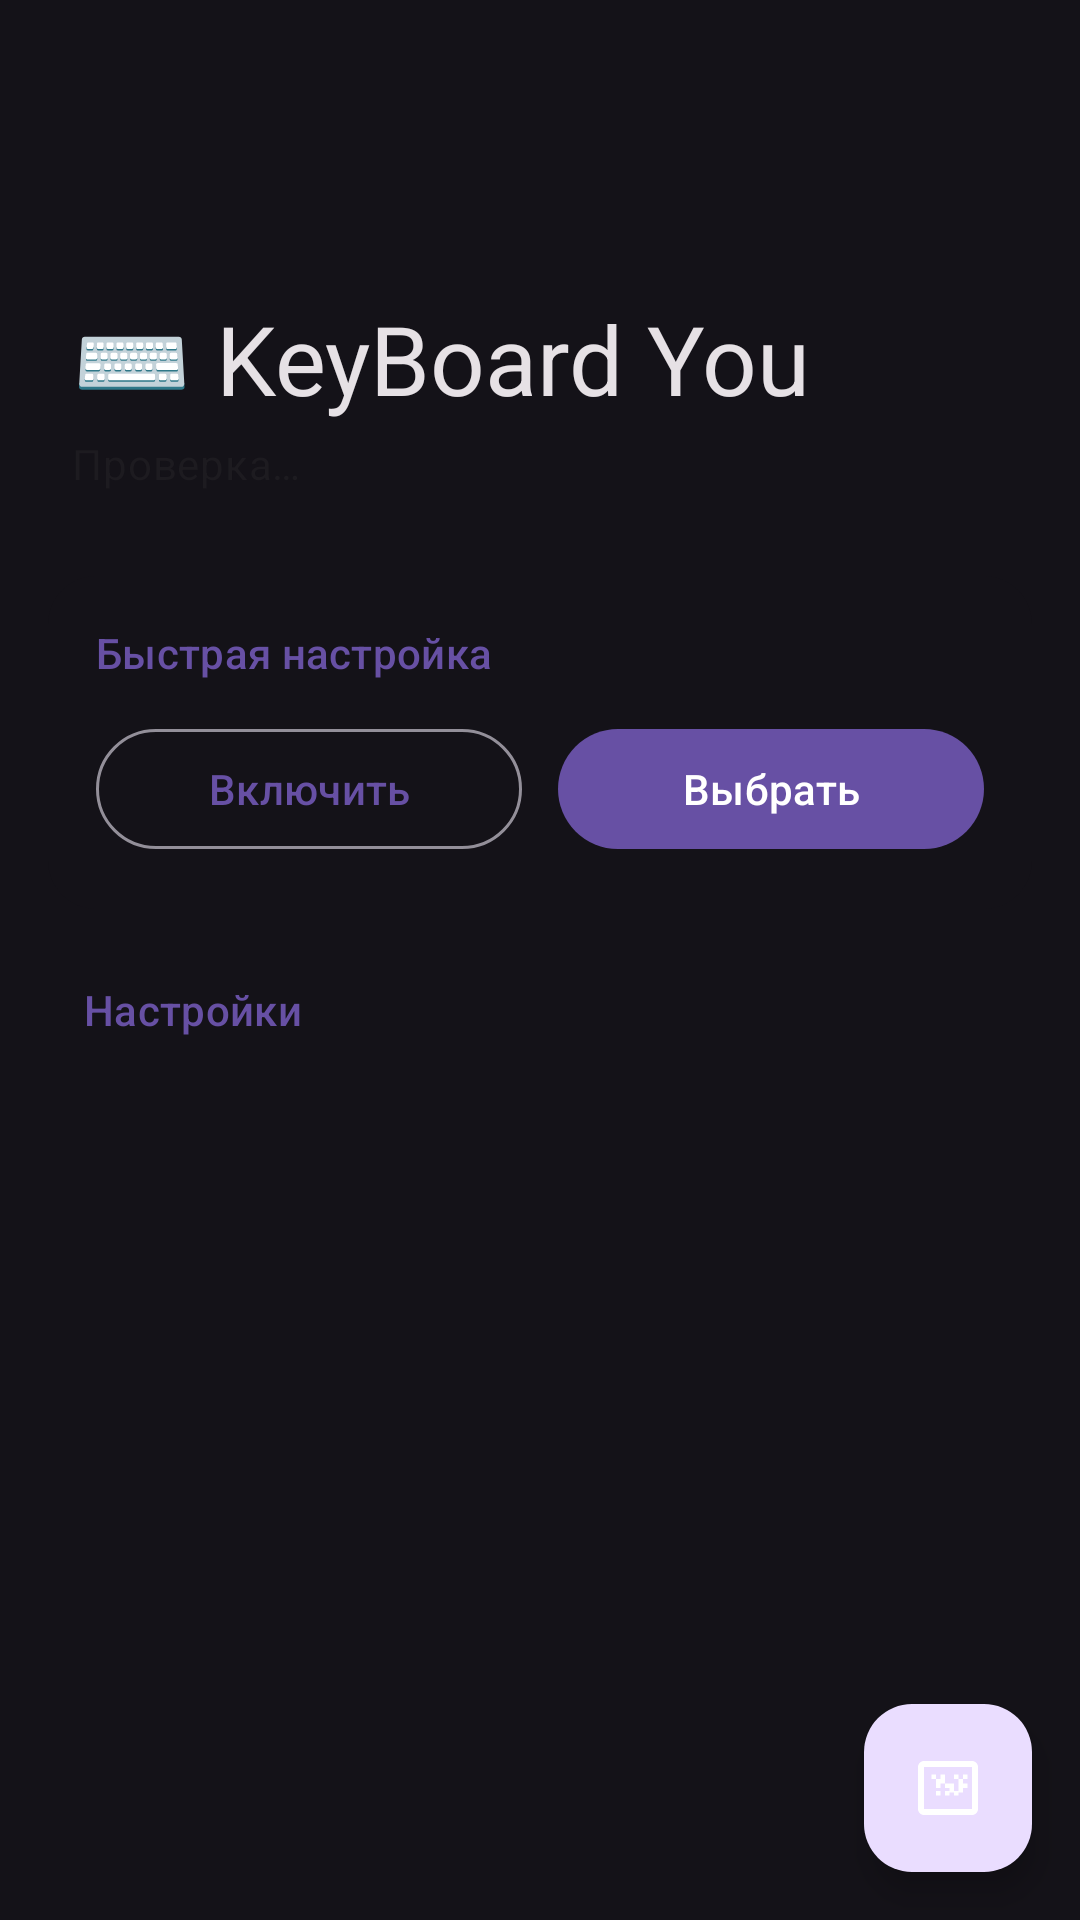

Icons on this 1080×1920 Android screen, each with its box as (x1, y1, x2, y2):
Тест клавиатуры: (864, 1704, 1032, 1872)
